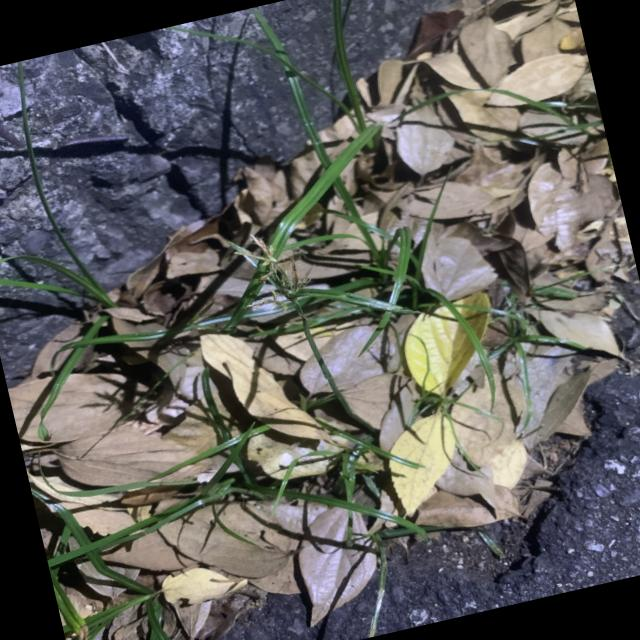cyperus: (209, 205, 351, 348)
